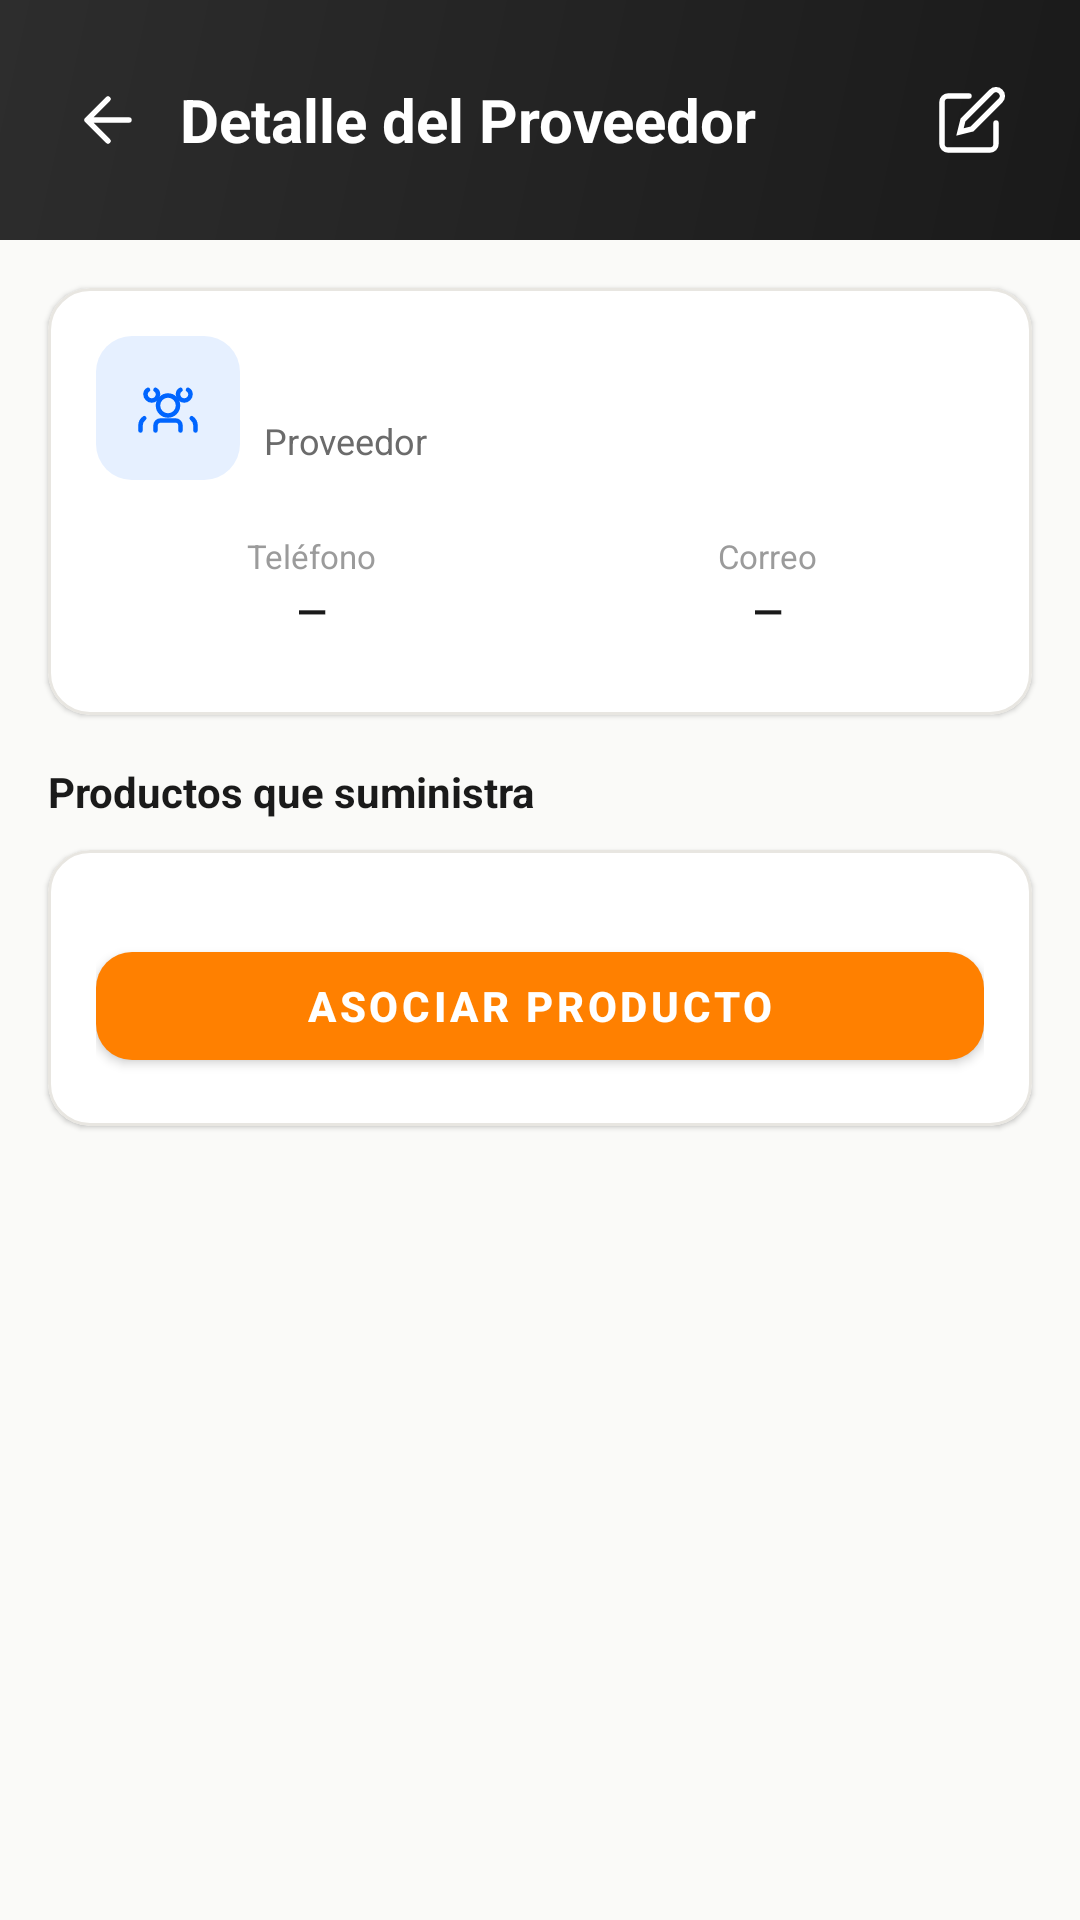

Locate icon controls on the screen. Image size 1080px×1920px, boxes as (x1, y1, x2, y2).
Editar: (939, 87, 1005, 153)
Volver: (84, 96, 132, 144)
